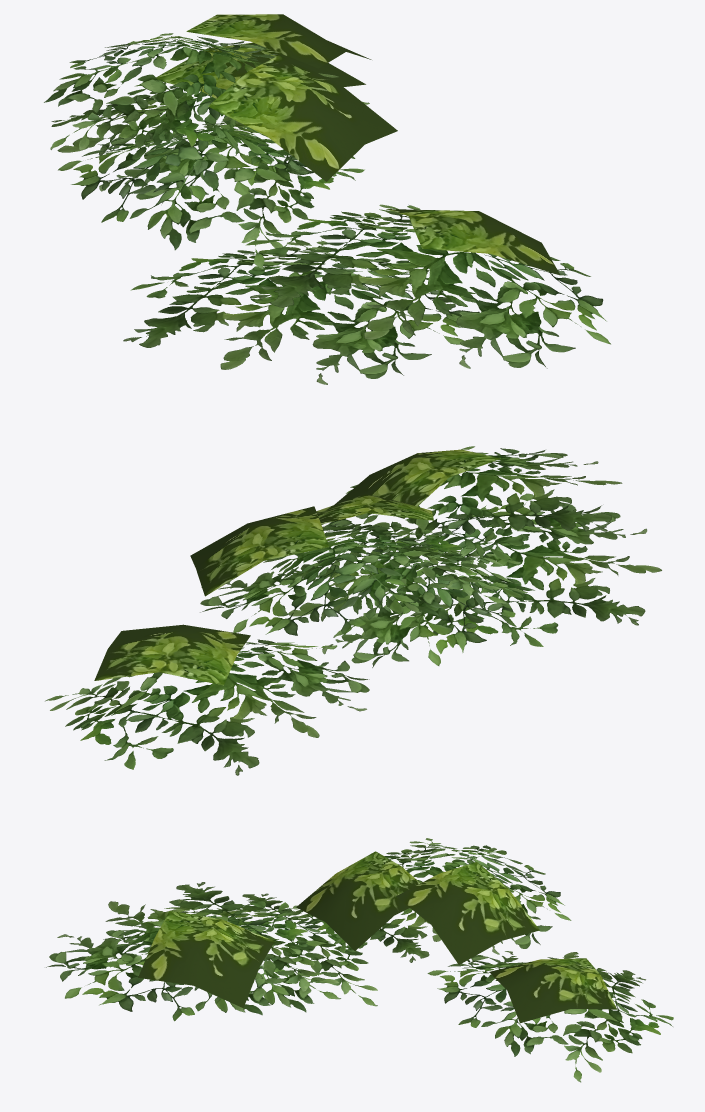
The model's file is 2_Plant_JinShuYe_01.FBX.
The picture shows the model from 3 angles, top to bottom: view 1: azimuth 30°, elevation 25°; view 2: azimuth 150°, elevation 25°; view 3: azimuth 270°, elevation 25°; orthographic projection. The views are drawn at different scales.
Visible parts, largest first — view 1: 2_Plant_JinShuYe_01, 2_Plant_JinShuYe_03, 2_Plant_JinShuYe_02; view 2: 2_Plant_JinShuYe_01, 2_Plant_JinShuYe_03, 2_Plant_JinShuYe_02; view 3: 2_Plant_JinShuYe_01, 2_Plant_JinShuYe_02, 2_Plant_JinShuYe_03.
Part boxes in pixels (<box>): 2_Plant_JinShuYe_01: <box>44,14,610,384</box>; 2_Plant_JinShuYe_03: <box>51,82,369,203</box>; 2_Plant_JinShuYe_02: <box>386,209,560,275</box>; 2_Plant_JinShuYe_01: <box>94,446,661,685</box>; 2_Plant_JinShuYe_03: <box>45,639,369,775</box>; 2_Plant_JinShuYe_02: <box>334,449,500,518</box>; 2_Plant_JinShuYe_01: <box>46,838,616,1023</box>; 2_Plant_JinShuYe_02: <box>138,911,274,1008</box>; 2_Plant_JinShuYe_03: <box>427,951,673,1082</box>.
Bounding box in the file's own units: 725 × 269 × 1169.
